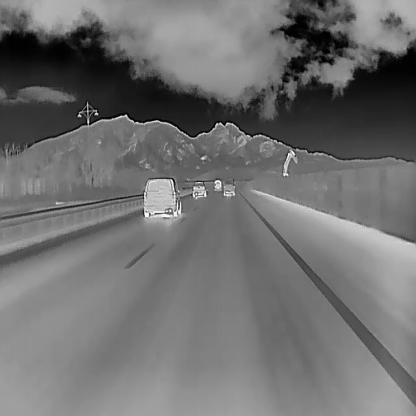car: (142, 177, 181, 217), (190, 179, 206, 198), (222, 177, 235, 196)
truck: (212, 177, 222, 192)
